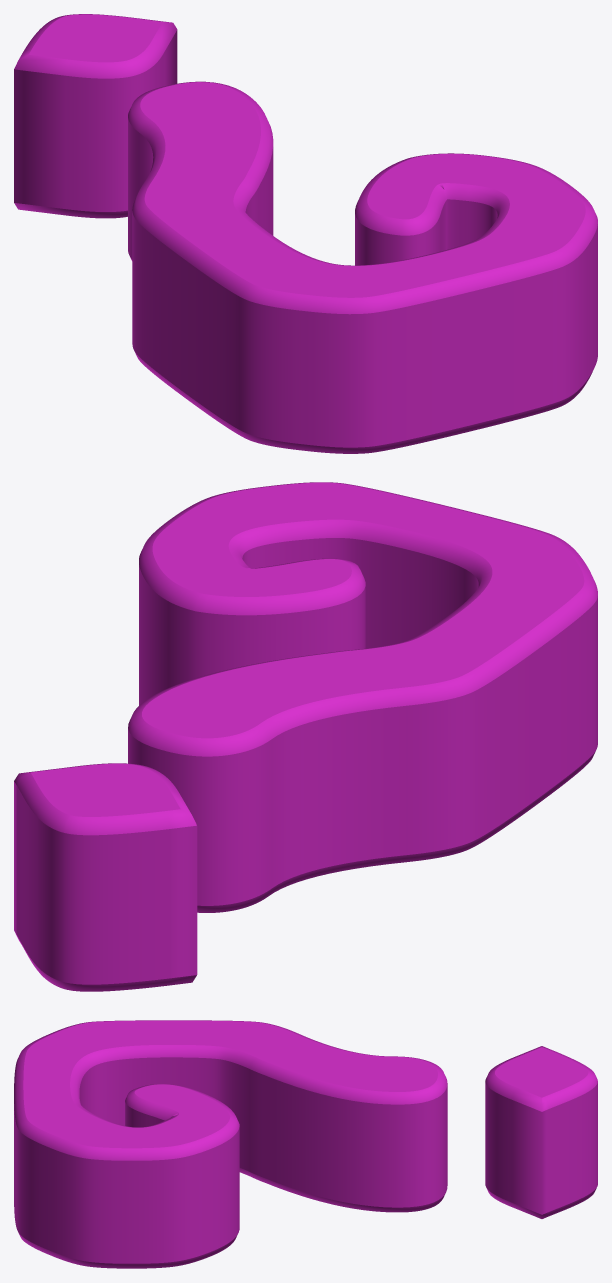
File: QuestionMark.fbx
3 views of the same model, one above another, from view 1: azimuth 30°, elevation 25°; view 2: azimuth 150°, elevation 25°; view 3: azimuth 270°, elevation 25° (orthographic). The views are drawn at different scales.
Visible parts, largest first — view 1: QuestionMark; view 2: QuestionMark; view 3: QuestionMark.
Part boxes in pixels (bbox=[...]): QuestionMark: bbox=[14, 14, 597, 453]; QuestionMark: bbox=[14, 482, 597, 991]; QuestionMark: bbox=[14, 1020, 597, 1268].
Bounding box in the file's own units: 0.339 × 0.14 × 0.6169.
